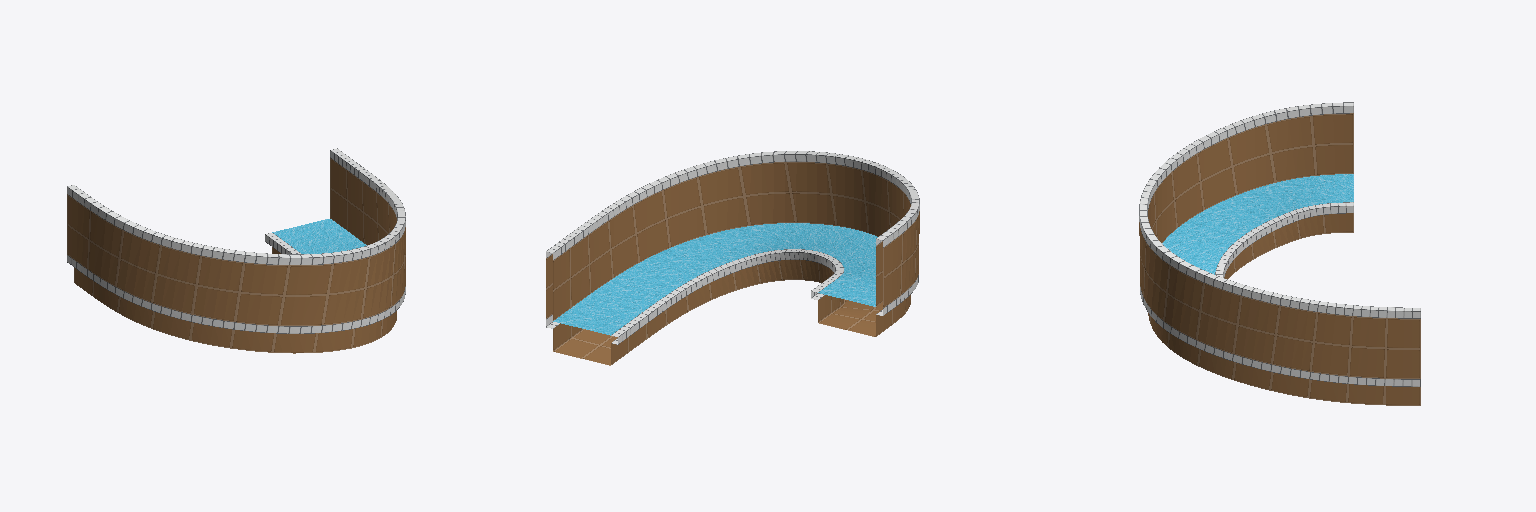
The picture shows the model from 3 angles: view 1: azimuth 30°, elevation 25°; view 2: azimuth 150°, elevation 25°; view 3: azimuth 270°, elevation 25°; orthographic projection.
Visible parts, largest first — view 1: Cube_Cube.002; view 2: Cube_Cube.002; view 3: Cube_Cube.002.
Part boxes in pixels (bbox=[...]): Cube_Cube.002: bbox=[67, 148, 405, 353]; Cube_Cube.002: bbox=[546, 151, 919, 365]; Cube_Cube.002: bbox=[1139, 102, 1420, 405].
Size of the model in its own units: 21 by 10.5 by 16.87.
Materials: 3 (3 with a texture image).